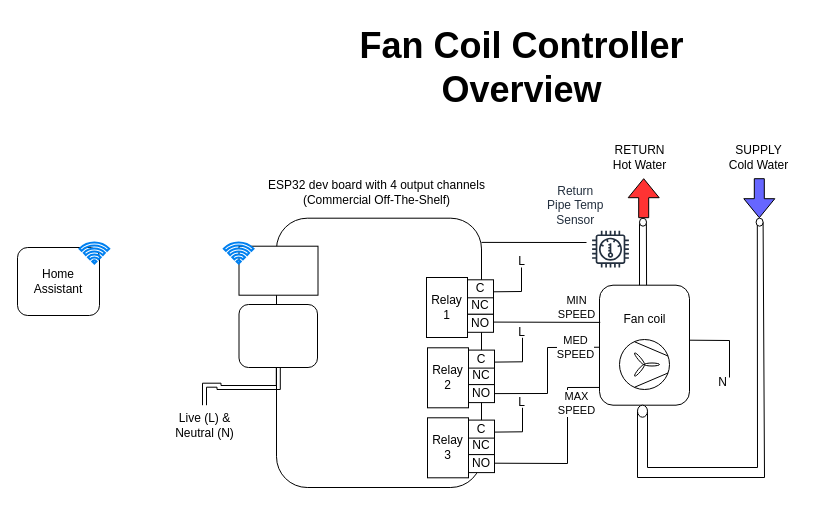
Some shapes in this 816 by 505 pixel diagram are drawn without their labels. Each missing label, with the centre of its shape:
ESP32-WROOM: the point at 278,270
Onboard 220V to 5V adapter: the point at 278,336
